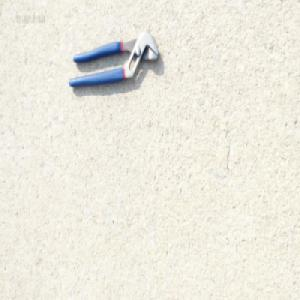Pliers: (68, 30, 161, 91)
